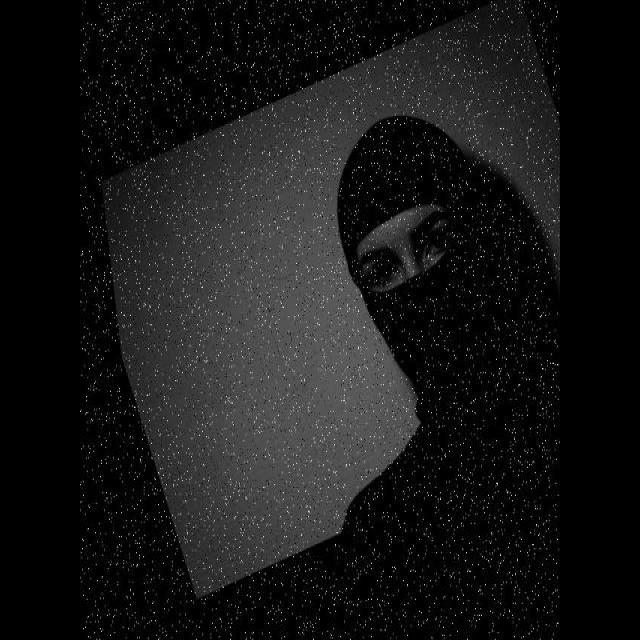6_pasamontana: (335, 116, 536, 458)
